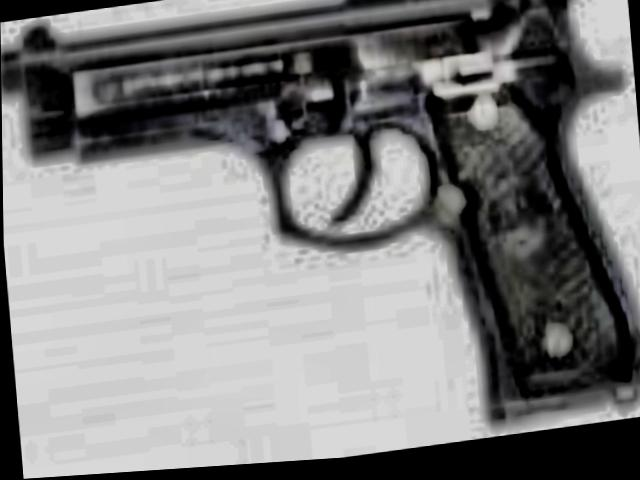pistol: (0, 0, 640, 473)
